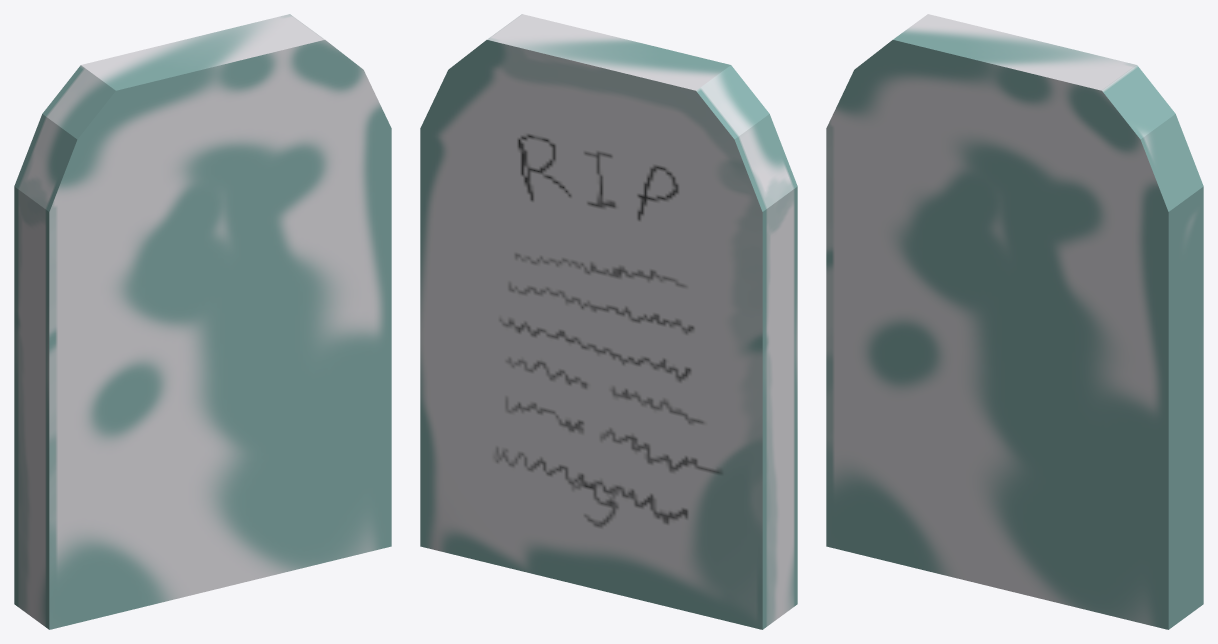
Rendered from gravestone.obj.
3 views of the same model, side by side, from view 1: azimuth 30°, elevation 25°; view 2: azimuth 150°, elevation 25°; view 3: azimuth 330°, elevation 25° (orthographic).
Visible parts, largest first — view 1: Cube.005_Cube.018; view 2: Cube.005_Cube.018; view 3: Cube.005_Cube.018.
Boxes of the visible parts, bbox=[...] form: Cube.005_Cube.018: bbox=[14, 14, 391, 629]; Cube.005_Cube.018: bbox=[420, 14, 797, 629]; Cube.005_Cube.018: bbox=[826, 14, 1203, 629].
Bounding box in the file's own units: 3.24 × 4.73 × 0.5774.
